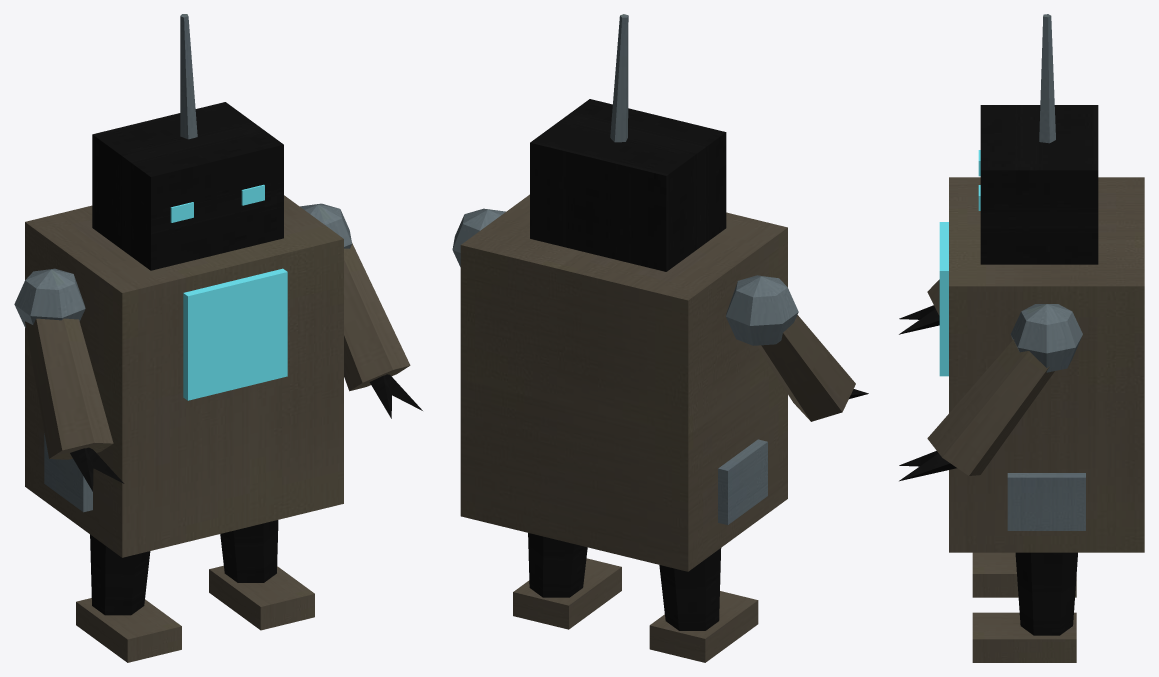
Rendered from mon_cons_02.glb.
3 views of the same model, side by side, from view 1: azimuth 30°, elevation 25°; view 2: azimuth 150°, elevation 25°; view 3: azimuth 270°, elevation 25° (orthographic). The views are drawn at different scales.
Visible parts, largest first — view 1: mon_cons_02; view 2: mon_cons_02; view 3: mon_cons_02.
Boxes of the visible parts, box(x1,y1,x2,y2) form: mon_cons_02: box(14, 14, 422, 662); mon_cons_02: box(452, 14, 868, 662); mon_cons_02: box(899, 14, 1144, 662).
Bounding box in the file's own units: 1.09 × 1.79 × 0.6637.
Materials: 4 (4 with a texture image).
